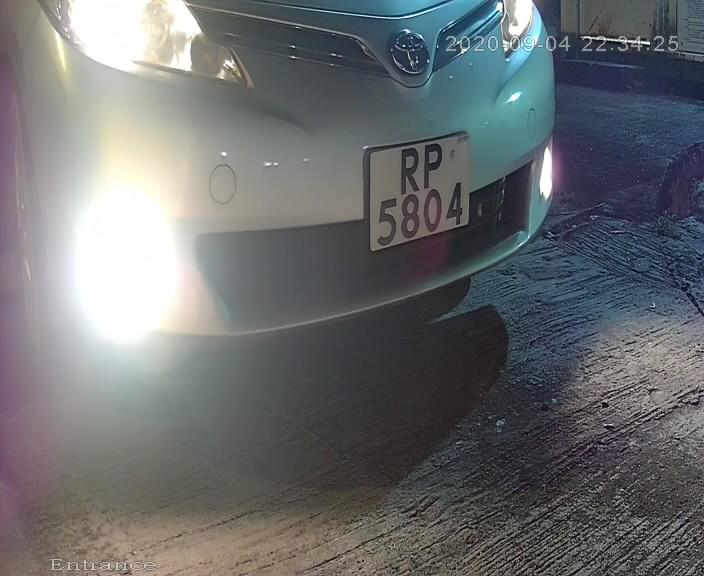License Plate: (353, 124, 475, 263)
